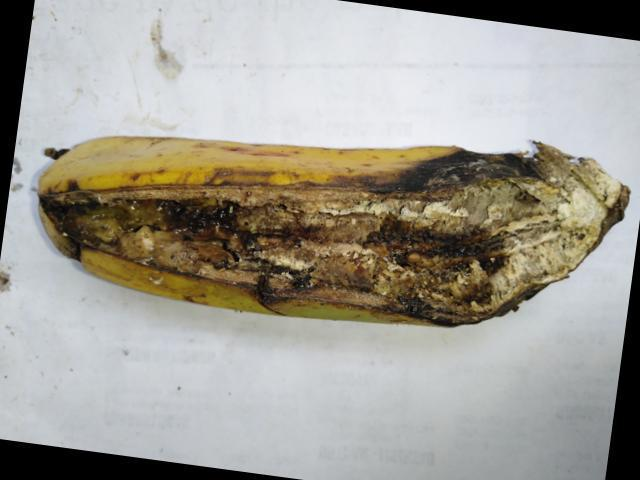rotten: (377, 109, 639, 361), (20, 174, 469, 319)
